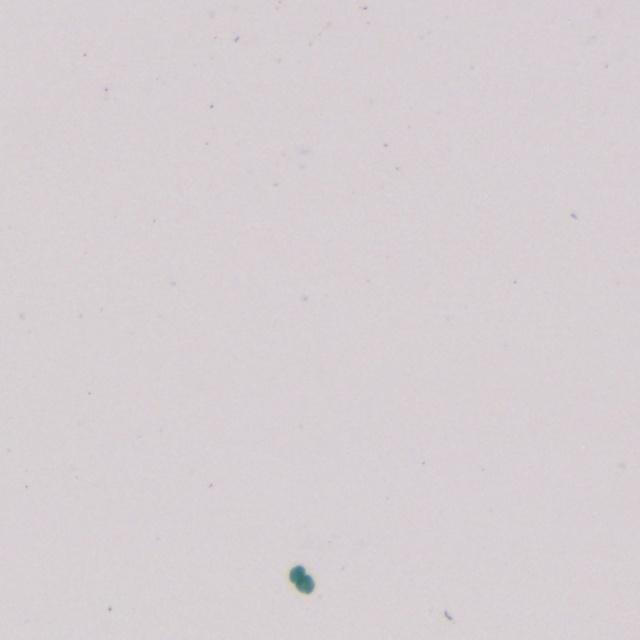non_viable: (296, 575, 315, 593), (289, 564, 304, 586)
